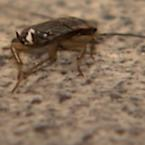cockroach: (10, 12, 98, 72)
